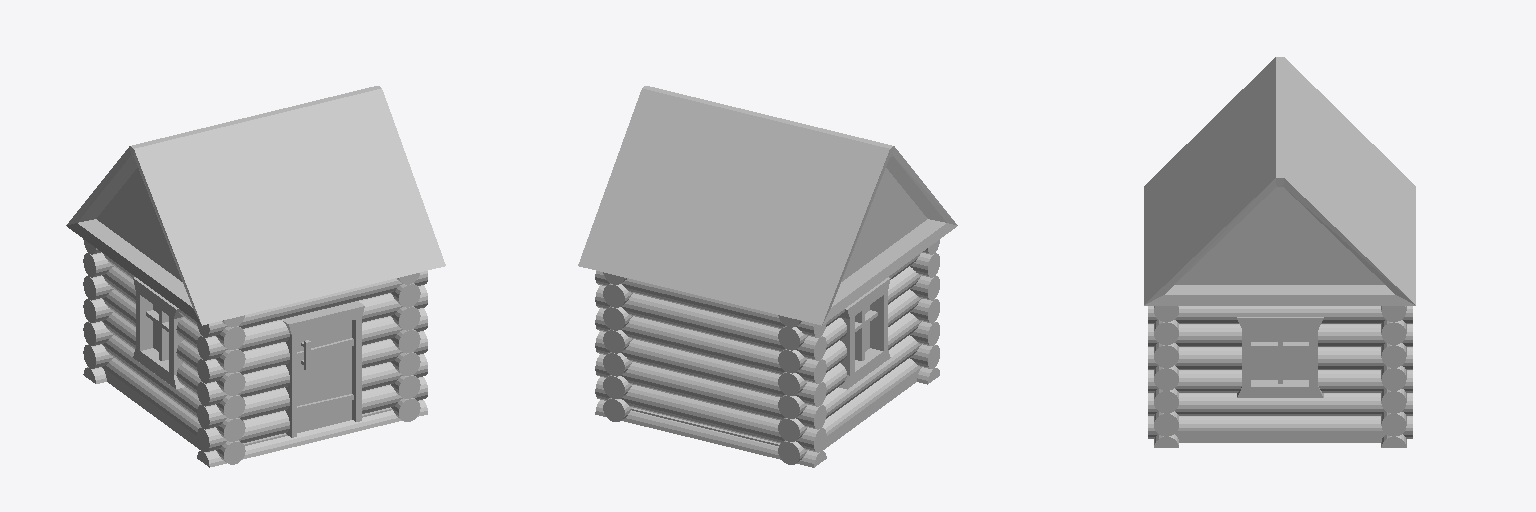
Rendered from isbaForBlend — копия.obj.
3 views of the same model, side by side, from view 1: azimuth 30°, elevation 25°; view 2: azimuth 150°, elevation 25°; view 3: azimuth 270°, elevation 25° (orthographic).
Parts seen in each view (by area): view 1: Isba1:pCube45 polySurface30, polySurface1 Isba1:pCube45, Isba1:pCube45 polySurface20, Isba1:pCube45 polySurface4, Isba1:pCube45 polySurface33, Isba1:pCube45 polySurface37, Isba1:pCube45 polySurface42, Isba1:pCube45 polySurface35, Isba1:pCube45 polySurface7, Isba1:pCube45 polySurface5, Isba1:pCube45 polySurface11, Isba1:pCube45 polySurface9 (+17 smaller); view 2: Isba1:pCube45 polySurface30, Isba1:pCube45 polySurface34, Isba1:pCube45 polySurface40, Isba1:pCube45 polySurface41, Isba1:pCube45 polySurface36, Isba1:pCube45 polySurface43, Isba1:pCube45 polySurface20, Isba1:pCube45 polySurface32, Isba1:pCube45 polySurface39, Isba1:pCube45 polySurface42, Isba1:pCube45 polySurface35, Isba1:pCube45 polySurface29 (+10 smaller); view 3: Isba1:pCube45 polySurface30, Isba1:pCube45 polySurface28, Isba1:pCube45 polySurface38, Isba1:pCube45 polySurface44, Isba1:pCube45 polySurface21, Isba1:pCube45 polySurface29, Isba1:pCube45 polySurface24, Isba1:pCube45 polySurface26, Isba1:pCube45 polySurface25, Isba1:pCube45 polySurface22, Isba1:pCube45 polySurface27, Isba1:pCube45 polySurface23 (+10 smaller).
Boxes of the visible parts, box(x1,y1,x2,y2) form: Isba1:pCube45 polySurface30: box(66, 86, 445, 325); polySurface1 Isba1:pCube45: box(282, 301, 364, 437); Isba1:pCube45 polySurface20: box(133, 277, 184, 388); Isba1:pCube45 polySurface4: box(197, 377, 427, 451); Isba1:pCube45 polySurface33: box(197, 271, 427, 337); Isba1:pCube45 polySurface37: box(197, 400, 427, 467); Isba1:pCube45 polySurface42: box(102, 335, 245, 441); Isba1:pCube45 polySurface35: box(103, 358, 245, 464); Isba1:pCube45 polySurface7: box(197, 365, 289, 406); Isba1:pCube45 polySurface5: box(197, 387, 289, 429); Isba1:pCube45 polySurface11: box(197, 342, 289, 383); Isba1:pCube45 polySurface9: box(197, 320, 289, 360); Isba1:pCube45 polySurface30: box(578, 86, 957, 325); Isba1:pCube45 polySurface34: box(595, 308, 826, 383); Isba1:pCube45 polySurface40: box(595, 331, 826, 406); Isba1:pCube45 polySurface41: box(595, 377, 826, 452); Isba1:pCube45 polySurface36: box(595, 285, 826, 360); Isba1:pCube45 polySurface43: box(595, 354, 826, 429); Isba1:pCube45 polySurface20: box(839, 277, 890, 389); Isba1:pCube45 polySurface32: box(595, 271, 826, 337); Isba1:pCube45 polySurface39: box(595, 400, 826, 467); Isba1:pCube45 polySurface42: box(778, 335, 921, 441); Isba1:pCube45 polySurface35: box(778, 358, 920, 464); Isba1:pCube45 polySurface29: box(631, 367, 921, 452); Isba1:pCube45 polySurface30: box(1144, 57, 1415, 305); Isba1:pCube45 polySurface28: box(1237, 317, 1323, 397); Isba1:pCube45 polySurface38: box(1148, 393, 1412, 415); Isba1:pCube45 polySurface44: box(1148, 416, 1412, 438); Isba1:pCube45 polySurface21: box(1148, 306, 1412, 323); Isba1:pCube45 polySurface29: box(1175, 431, 1385, 442); Isba1:pCube45 polySurface24: box(1318, 347, 1412, 369); Isba1:pCube45 polySurface26: box(1318, 324, 1412, 346); Isba1:pCube45 polySurface25: box(1148, 347, 1241, 369); Isba1:pCube45 polySurface22: box(1318, 370, 1412, 392); Isba1:pCube45 polySurface27: box(1148, 324, 1241, 346); Isba1:pCube45 polySurface23: box(1148, 370, 1241, 392).
Bounding box in the file's own units: 22.68 × 24.26 × 21.57.